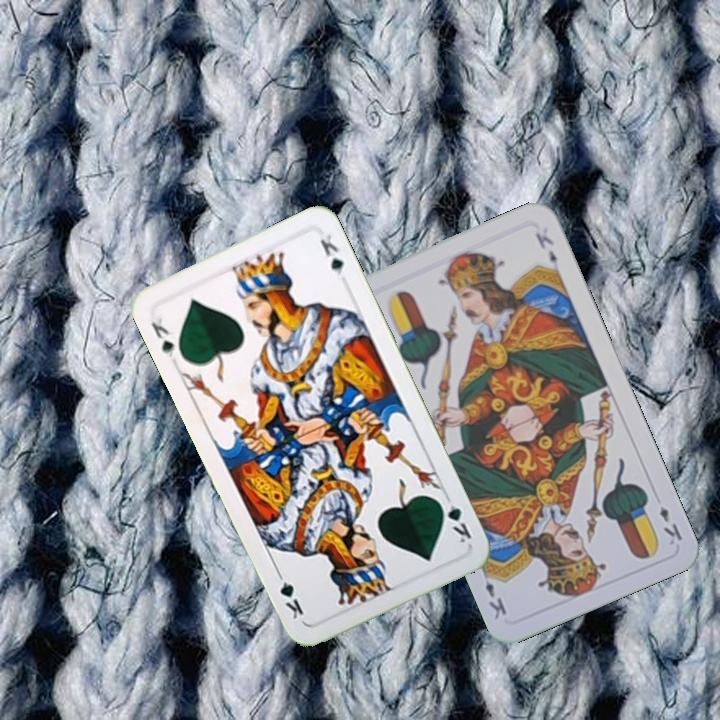EK: (655, 502, 686, 548)
GK: (434, 490, 474, 546), (147, 310, 179, 360)
